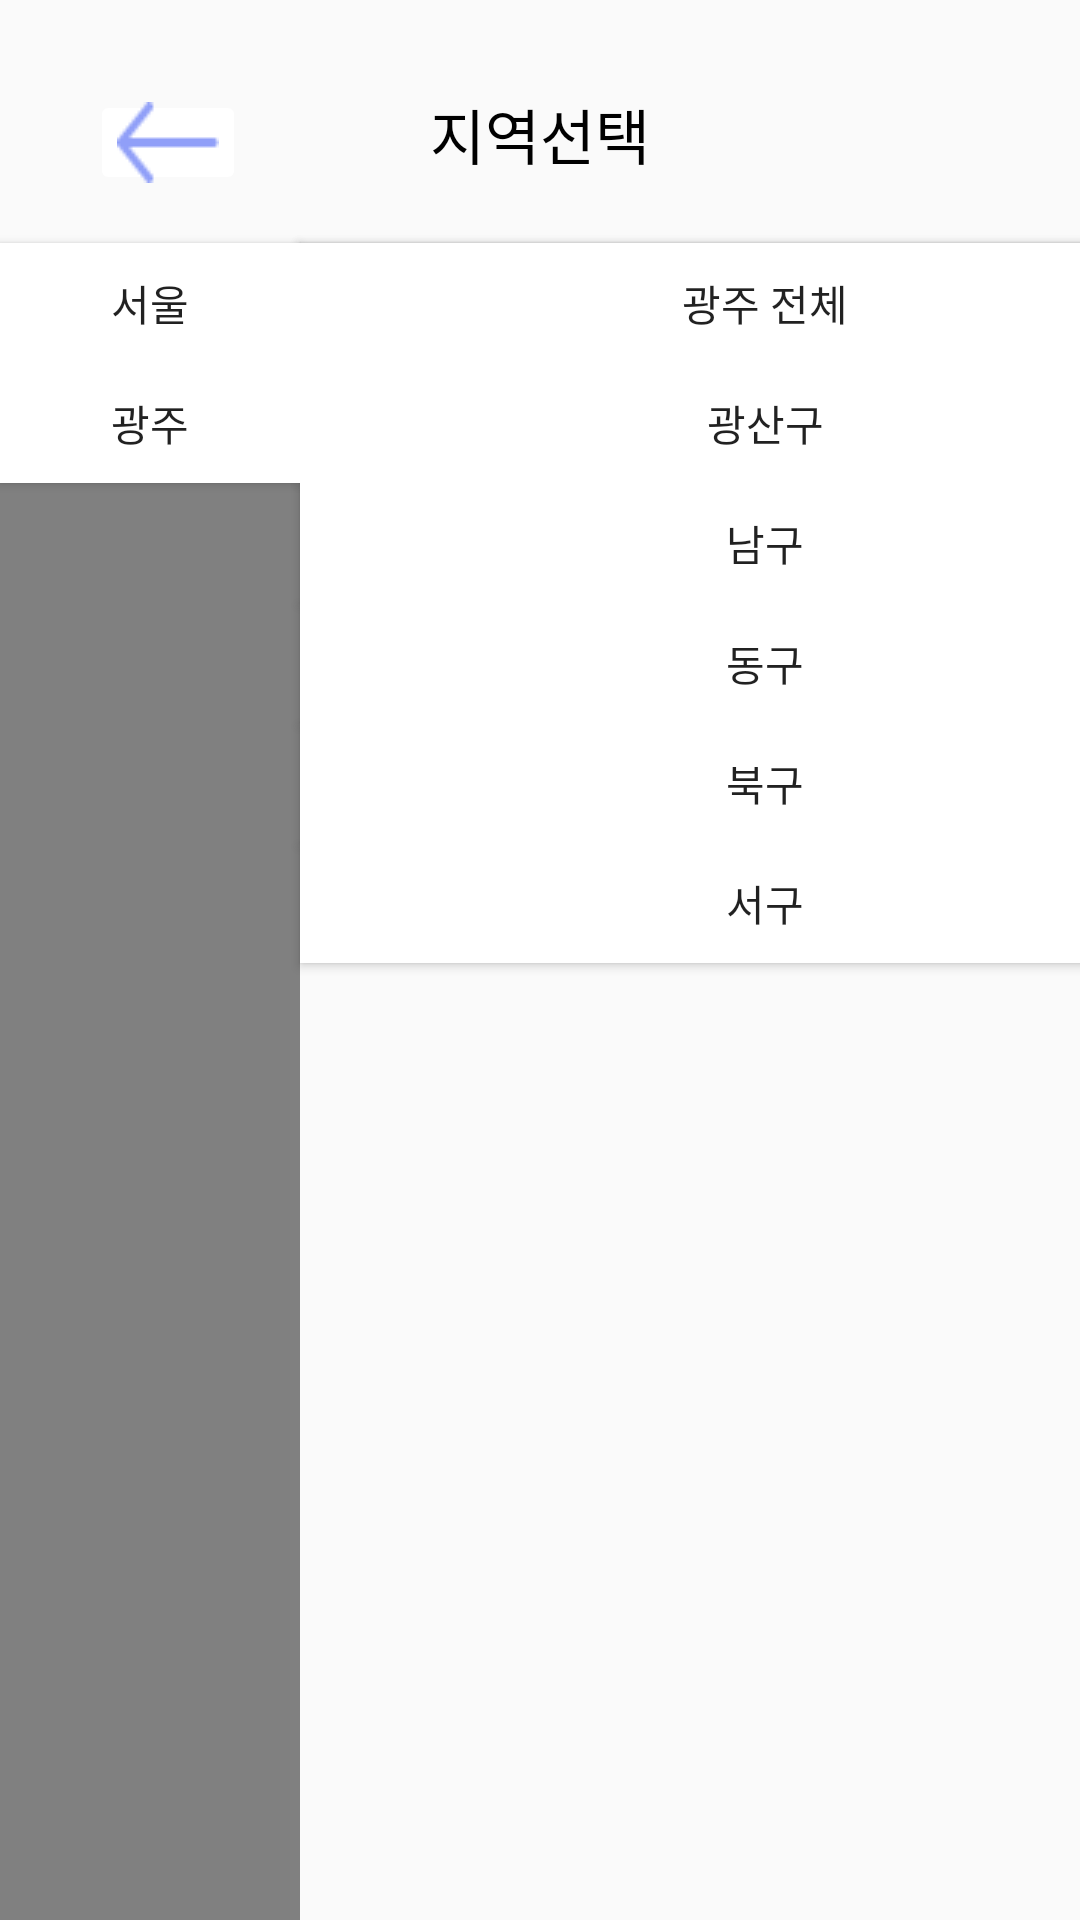

Point at icon controls on the screen. Image size 1080 × 1920, points as (x=x, y=y).
arrow left: (x=168, y=142)
